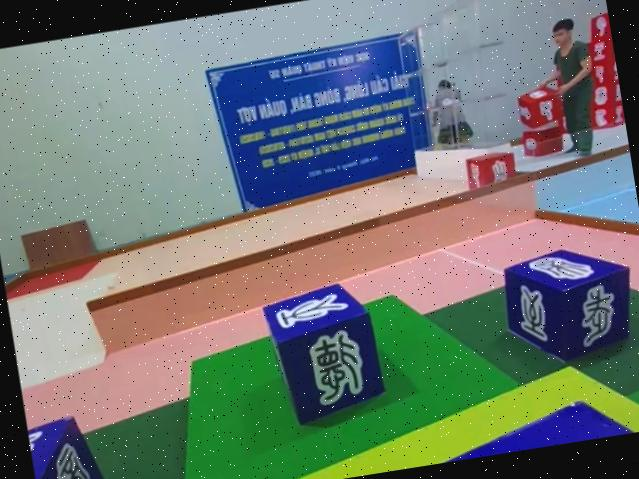R2 Fake Blue: (255, 278, 385, 430), (498, 240, 639, 372), (25, 415, 107, 479)
